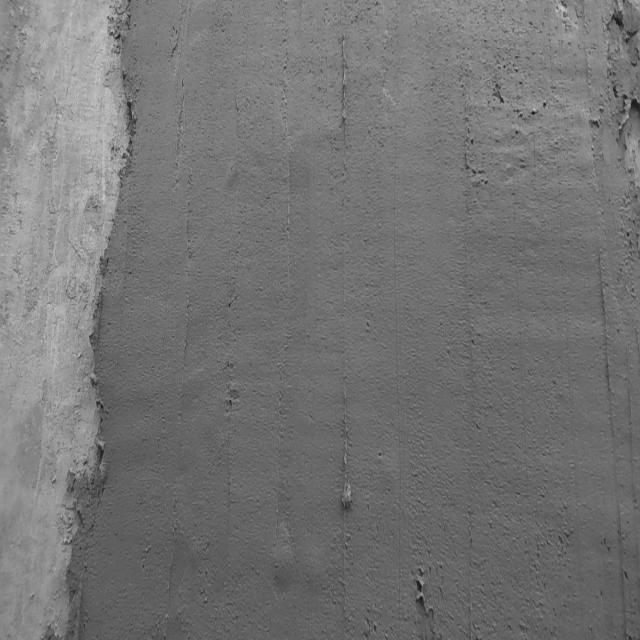trowels marks: (594, 248, 618, 436), (341, 381, 354, 592), (339, 32, 350, 150)
